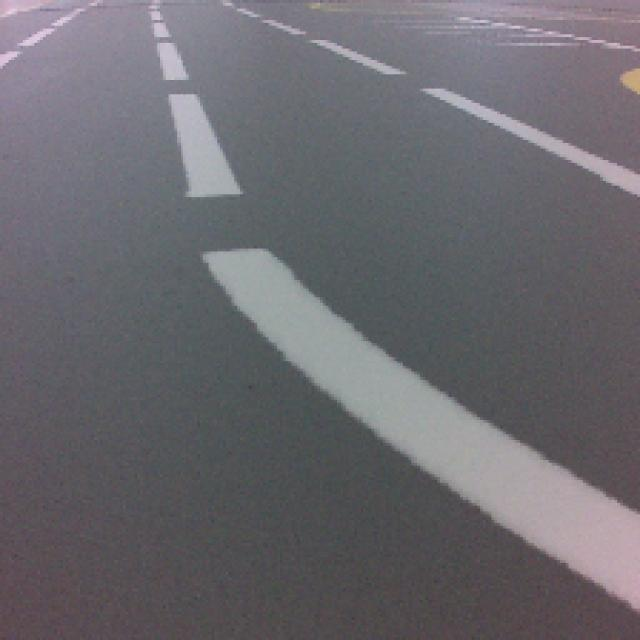Pedestrian crosswalk: (209, 251, 640, 619)
